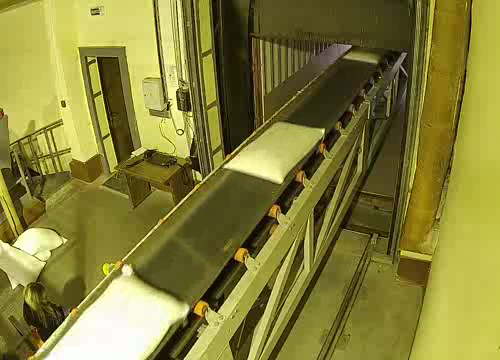bag: (37, 269, 201, 360), (214, 116, 339, 188), (337, 43, 389, 68)
